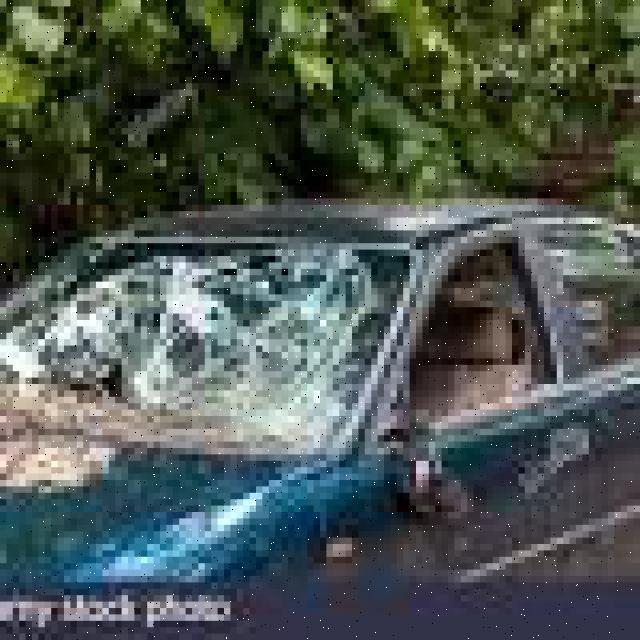Front-Windscreen-Damage: (0, 211, 448, 474)
